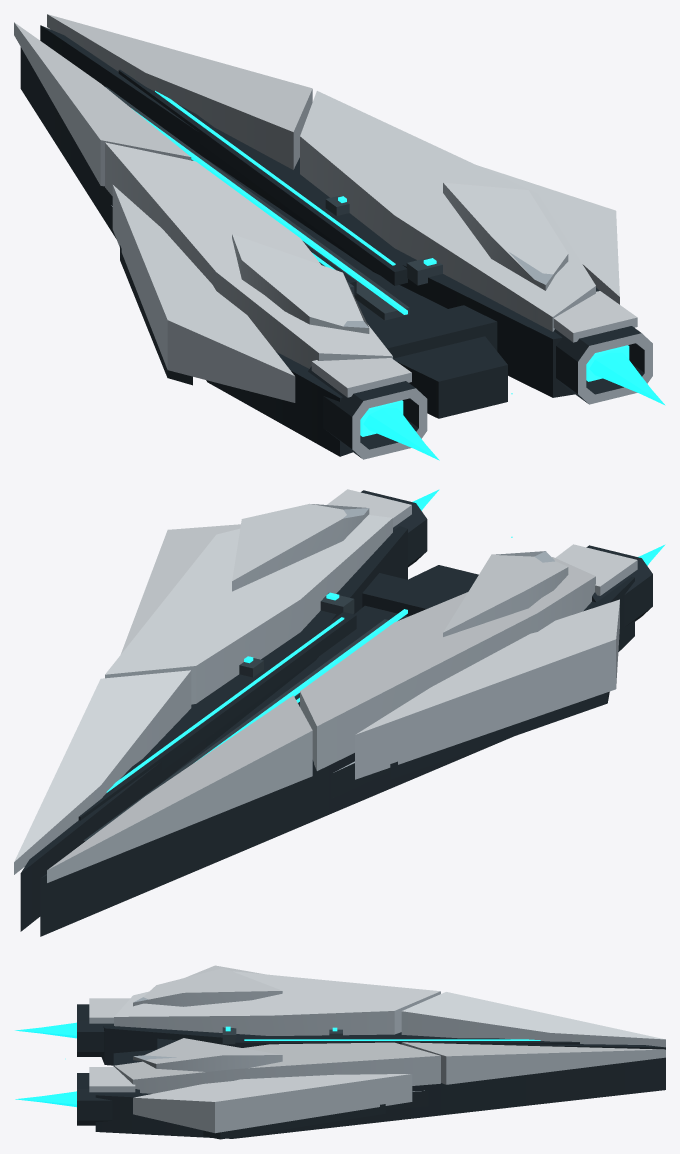
Rendered from 03_zerstoerer.glb.
3 views of the same model, one above another, from view 1: azimuth 30°, elevation 25°; view 2: azimuth 150°, elevation 25°; view 3: azimuth 270°, elevation 25° (orthographic). The views are drawn at different scales.
Parts seen in each view (by area): view 1: Hull, energy_1, energy_2; view 2: Hull; view 3: Hull, energy_1, energy_2.
Part boxes in pixels (left/top/right/bottom): Hull: left=14, top=14, right=652, bottom=459; energy_1: left=360, top=400, right=439, bottom=460; energy_2: left=586, top=345, right=665, bottom=405; Hull: left=14, top=489, right=652, bottom=936; Hull: left=77, top=965, right=665, bottom=1139; energy_1: left=15, top=1022, right=76, bottom=1038; energy_2: left=15, top=1091, right=76, bottom=1107.
Bounding box in the file's own units: 6.25 × 1.61 × 12.62.
